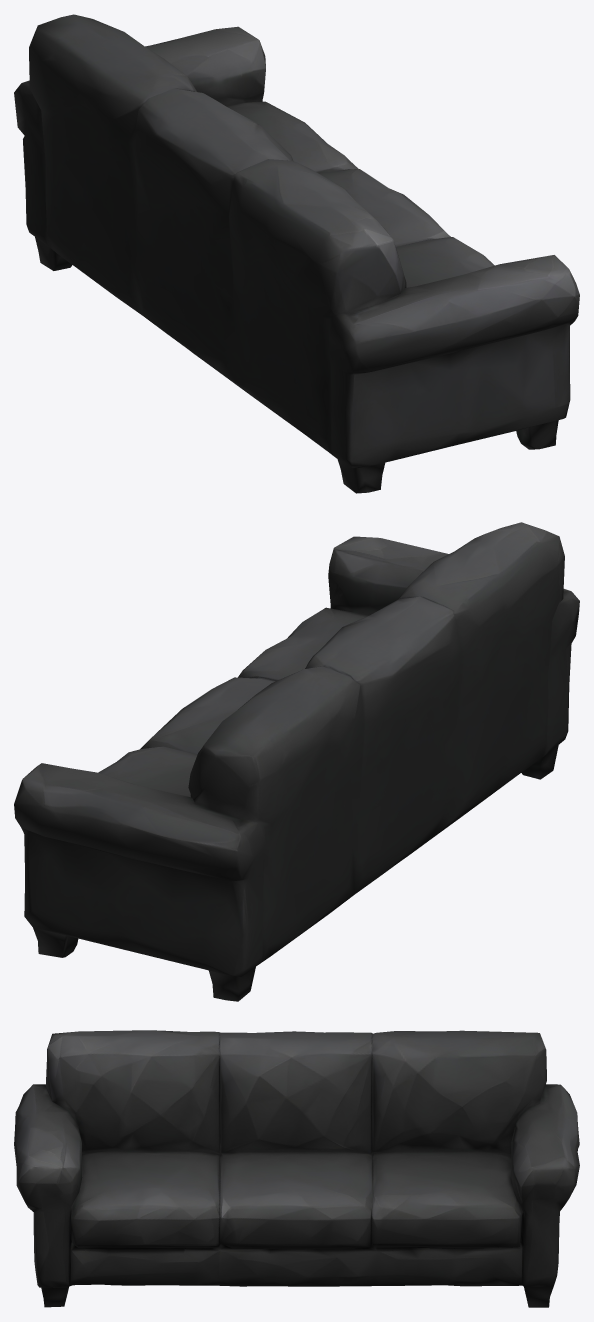
File: low+poly+sofa+3d+model.glb
The picture shows the model from 3 angles, top to bottom: view 1: azimuth 30°, elevation 25°; view 2: azimuth 150°, elevation 25°; view 3: azimuth 270°, elevation 25°; orthographic projection. The views are drawn at different scales.
Visible parts, largest first — view 1: tripo_node_c1dacd91-bd57-4b95-8737-6534e33e3338; view 2: tripo_node_c1dacd91-bd57-4b95-8737-6534e33e3338; view 3: tripo_node_c1dacd91-bd57-4b95-8737-6534e33e3338.
Part boxes in pixels (x1=…): tripo_node_c1dacd91-bd57-4b95-8737-6534e33e3338: x1=14, y1=14, x2=579, y2=493; tripo_node_c1dacd91-bd57-4b95-8737-6534e33e3338: x1=14, y1=522, x2=579, y2=1001; tripo_node_c1dacd91-bd57-4b95-8737-6534e33e3338: x1=14, y1=1030, x2=579, y2=1307.
Bounding box in the file's own units: 0.39 × 0.393 × 1.
Materials: 1 (1 with a texture image).
